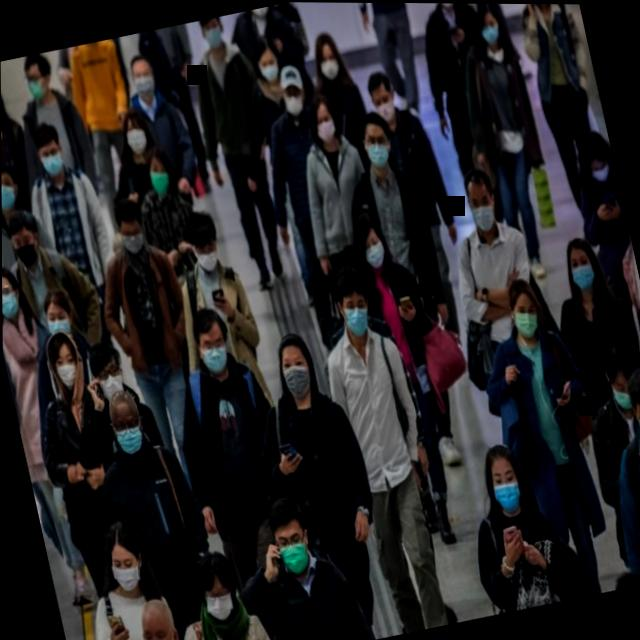Mask: (260, 492, 318, 582), (189, 543, 245, 625), (99, 381, 156, 461), (95, 512, 149, 596), (476, 439, 527, 515), (186, 303, 237, 377), (325, 263, 375, 337), (271, 328, 319, 401), (595, 333, 640, 409), (39, 325, 86, 393), (457, 163, 502, 234), (570, 124, 618, 190), (3, 208, 50, 272), (347, 210, 392, 275), (129, 588, 185, 640), (181, 208, 225, 274), (502, 273, 545, 340), (558, 232, 602, 294), (27, 118, 71, 180), (34, 283, 81, 341), (355, 110, 397, 172), (108, 195, 150, 256), (302, 87, 342, 145), (115, 108, 157, 163), (362, 67, 400, 125), (16, 51, 57, 104), (275, 62, 310, 122), (310, 27, 345, 82), (248, 33, 282, 84), (469, 3, 506, 48), (2, 261, 28, 323), (620, 364, 640, 443), (124, 52, 157, 98), (145, 149, 175, 199), (1, 155, 21, 214), (196, 16, 226, 51)
